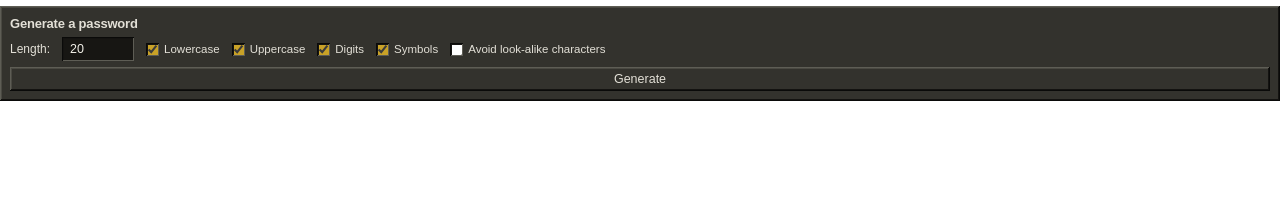
Test case: PasswordGenerator › generates in Rust rather than in the interface
Click the button "Generate": (640, 79) x1=10 y1=67 x2=1270 y2=91
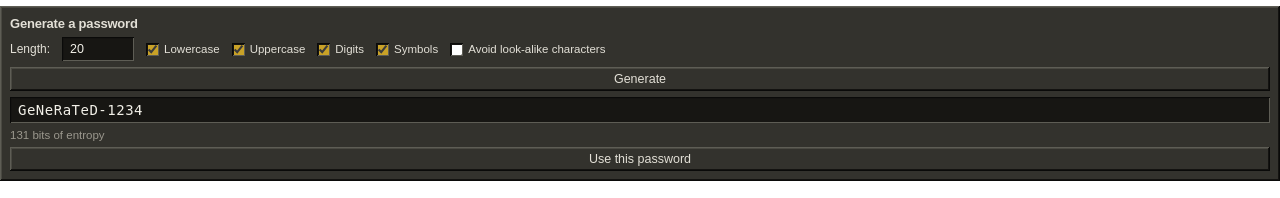
Now the field showing "GeNeRaTeD-1234" is shown, box x1=10 y1=97 x2=1270 y2=123
